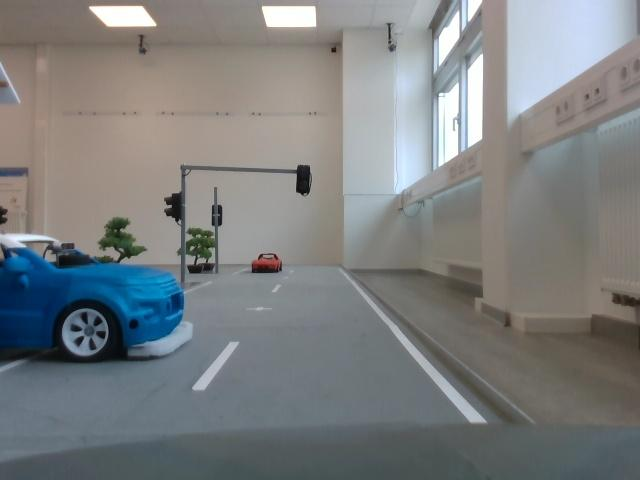car: (254, 248, 286, 278)
potted plant: (102, 212, 148, 265), (183, 233, 218, 276)
traffic light: (2, 235, 199, 366), (161, 194, 186, 224), (297, 163, 315, 202), (206, 204, 228, 231)
